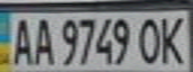4: (93, 15, 115, 65)
7: (75, 15, 96, 65)
9: (112, 15, 136, 65), (54, 15, 78, 65)
A: (6, 15, 36, 66), (30, 14, 57, 66)
K: (157, 12, 190, 65)
O: (136, 14, 163, 65)
